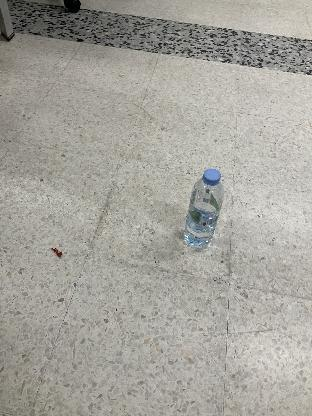Plastic Bottle: (183, 168, 225, 252)
